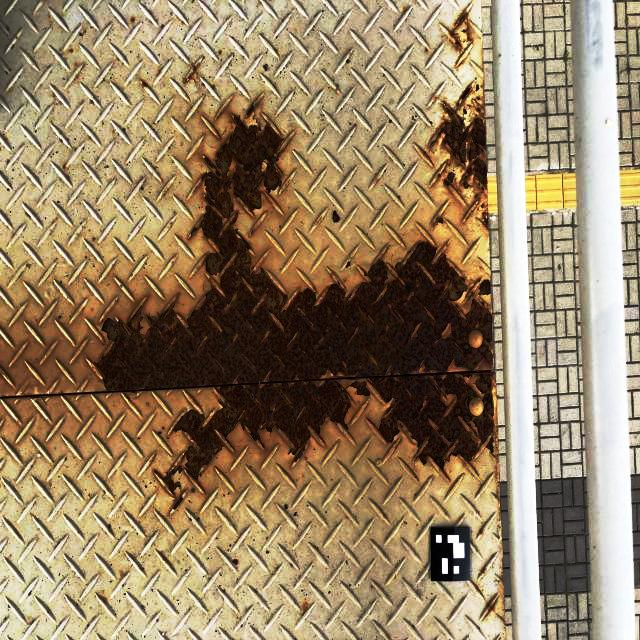Corrosion: (99, 116, 496, 480), (432, 82, 487, 202), (154, 465, 184, 510), (449, 9, 474, 60), (183, 66, 198, 84), (484, 599, 497, 618), (433, 214, 445, 232), (245, 102, 257, 120), (202, 155, 215, 169), (481, 210, 489, 229), (189, 224, 199, 239), (142, 81, 150, 87), (445, 179, 450, 188), (480, 203, 484, 209)
